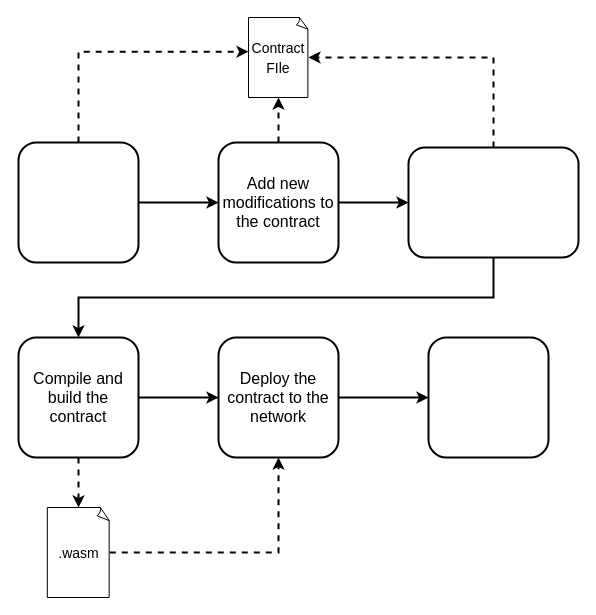
Some shapes in this 596 by 615 pixel diagram are drawn without their labels. Here are the shapes that lost their labels. From the top down, the centre of each, then its label:
At pixel 78 202: "Create a new contract file".
At pixel 493 202: "Implement add_contract_version method".
At pixel 488 397: "Verify new version changes".
